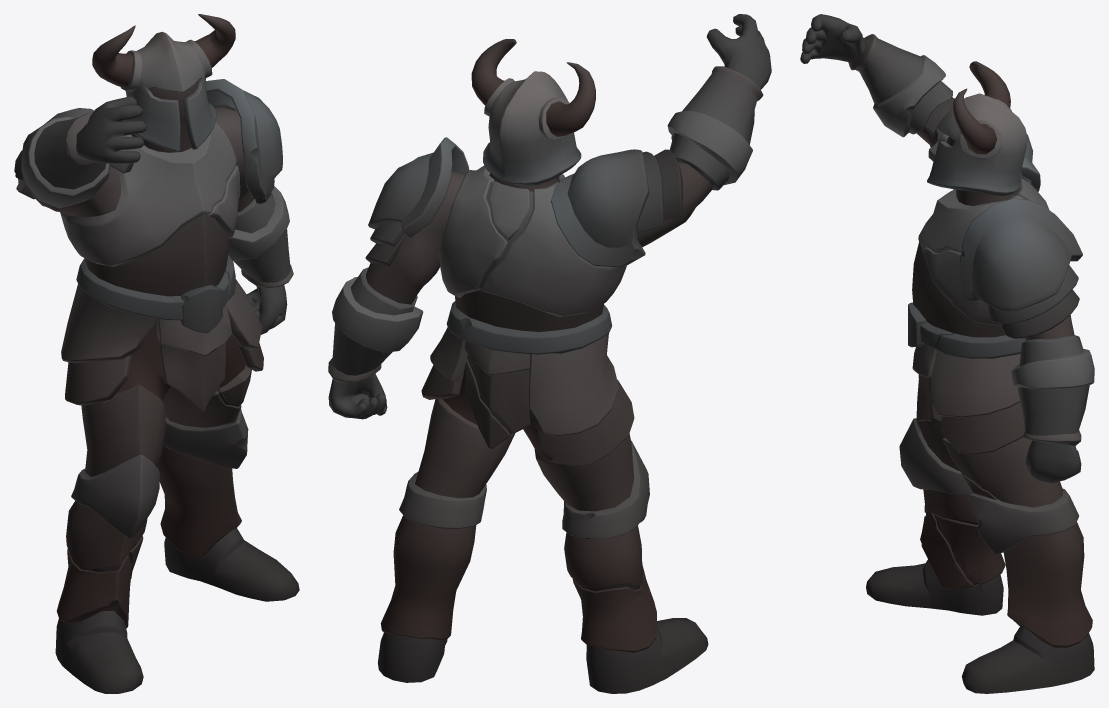
File: inferno-statue-knight-002.glb
The picture shows the model from 3 angles, left to right: view 1: azimuth 30°, elevation 25°; view 2: azimuth 150°, elevation 25°; view 3: azimuth 270°, elevation 25°; orthographic projection. The views are drawn at different scales.
Parts seen in each view (by area): view 1: StatueKnight_002; view 2: StatueKnight_002; view 3: StatueKnight_002.
Boxes of the visible parts, x1,y1,x2,y2 form: StatueKnight_002: (14,14,299,693); StatueKnight_002: (328,14,771,693); StatueKnight_002: (800,14,1094,693).
Size of the model in its own units: 21.51 by 37.66 by 17.61.
Materials: 1 (1 with a texture image).
